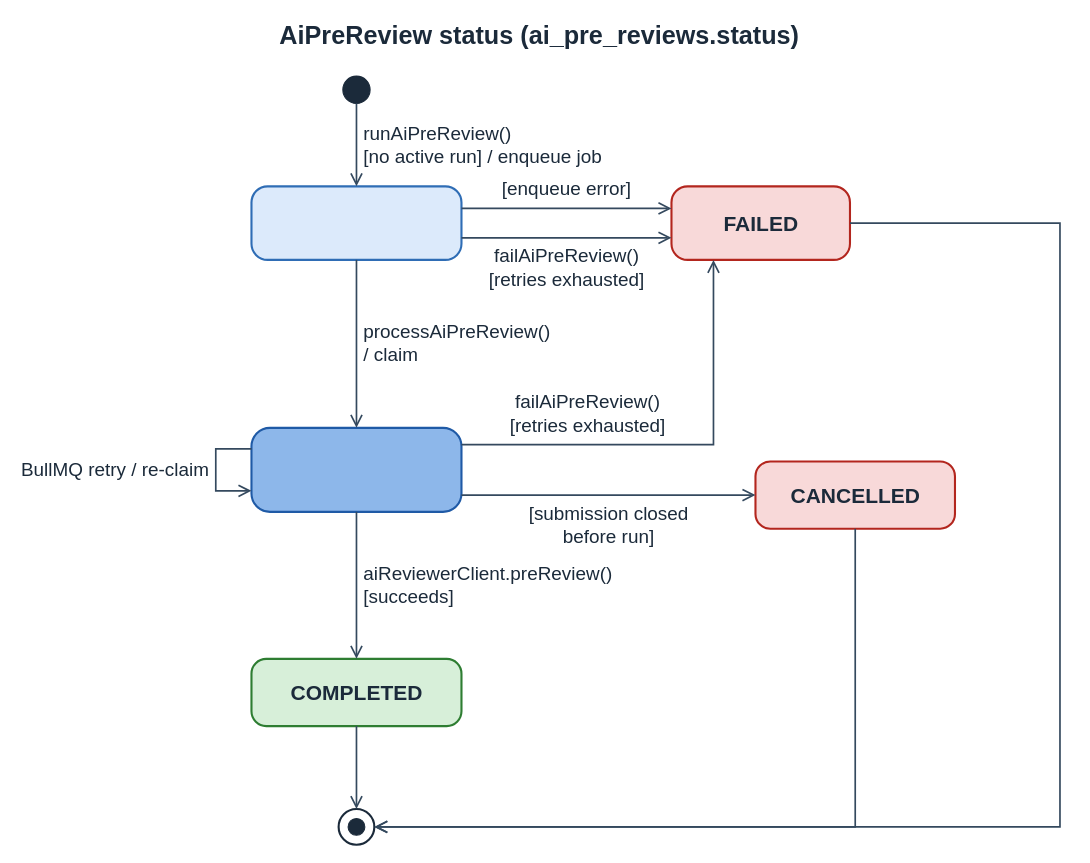
This 1090x863 diagram has some shape labels left out. The centre of each missing label's shape, as x and y in pixels:
"PROCESSING" goes at [356,469].
"QUEUED" goes at [356,222].
